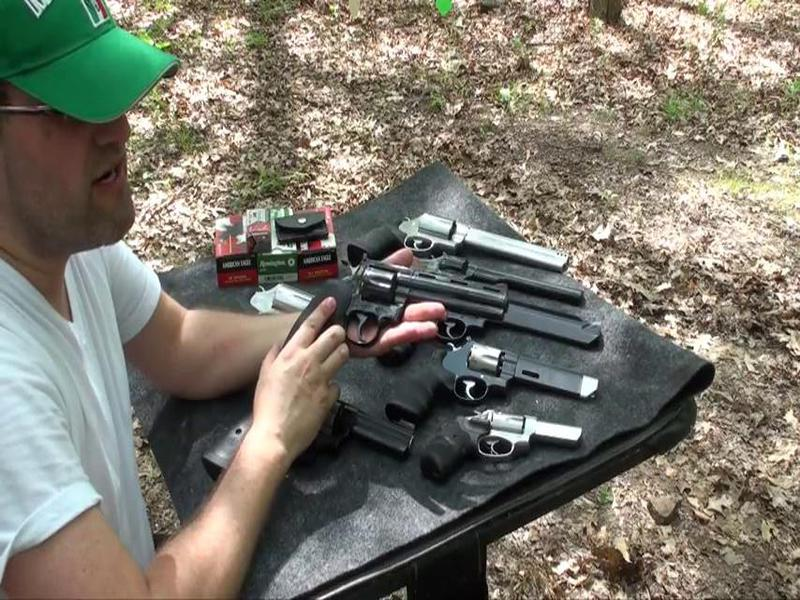Revolver: (281, 264, 519, 399)
